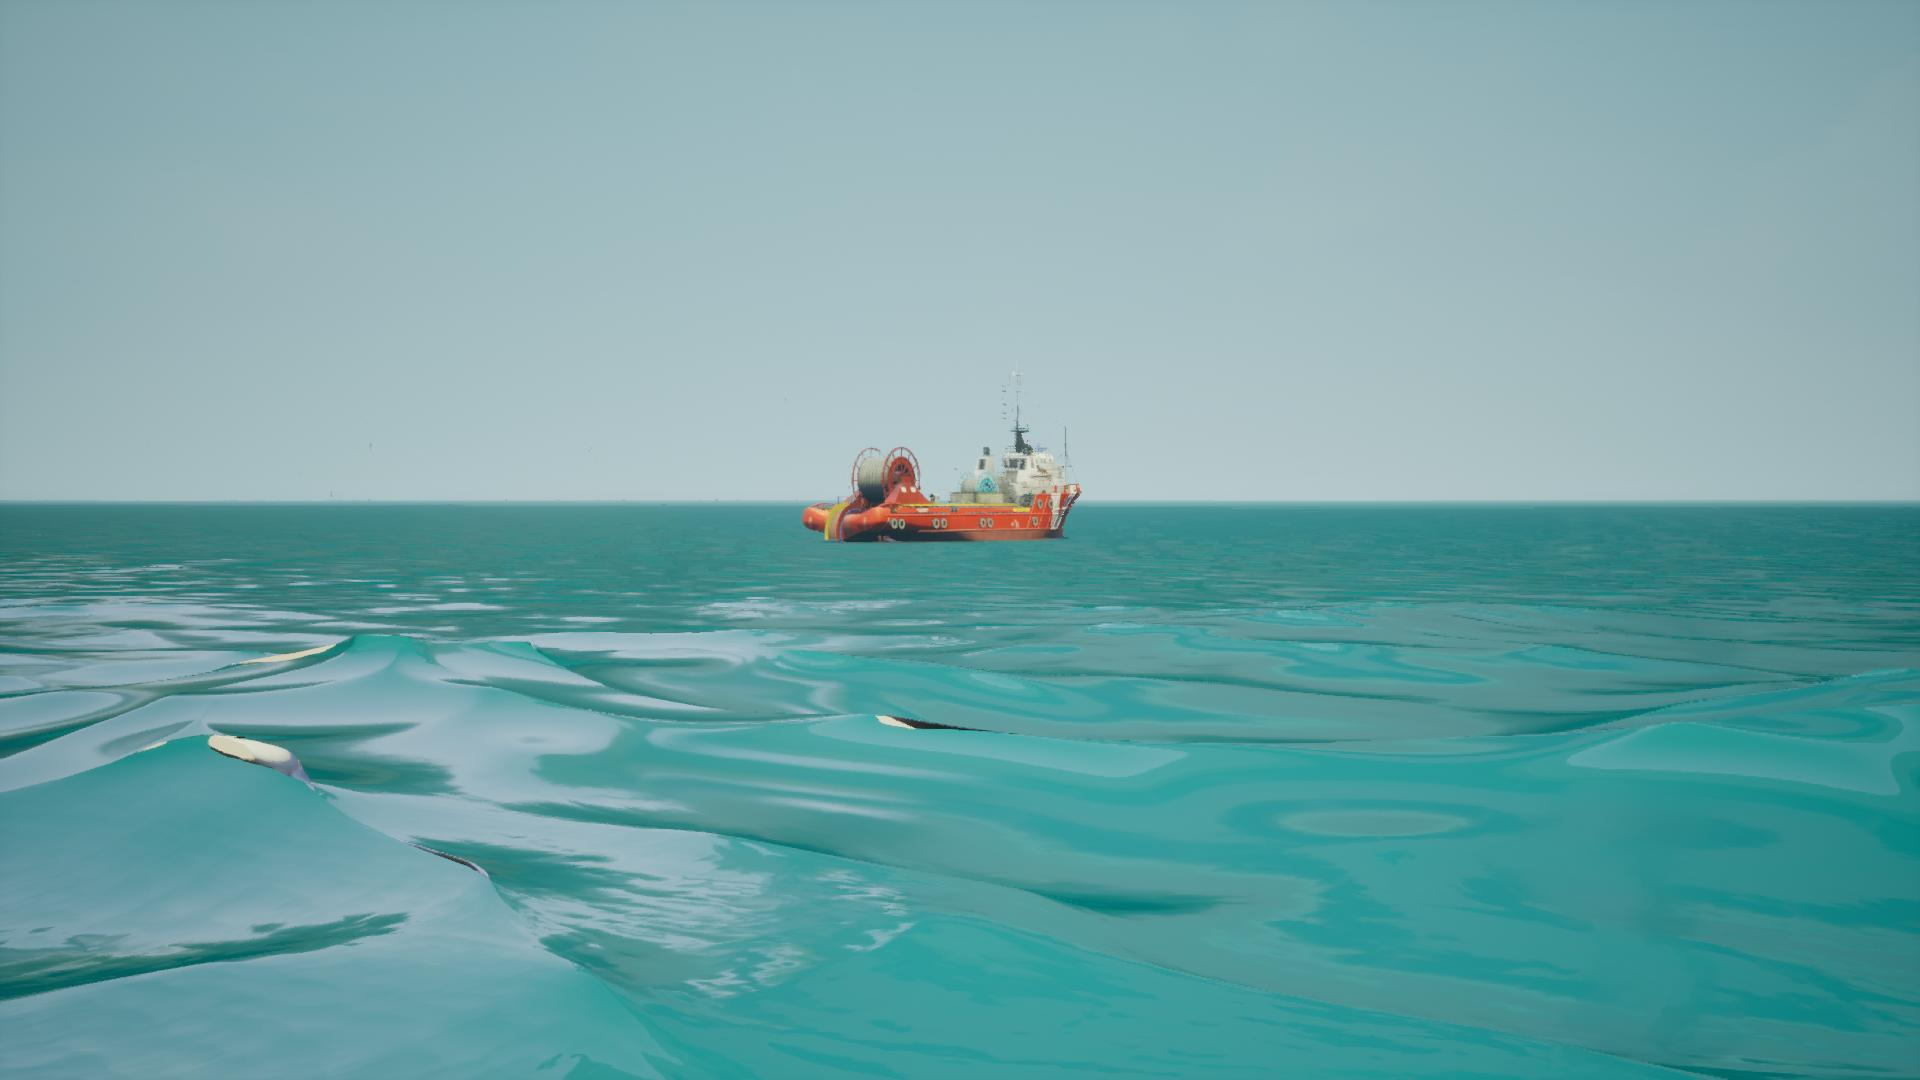Tug Boat: (820, 371, 1084, 543)
